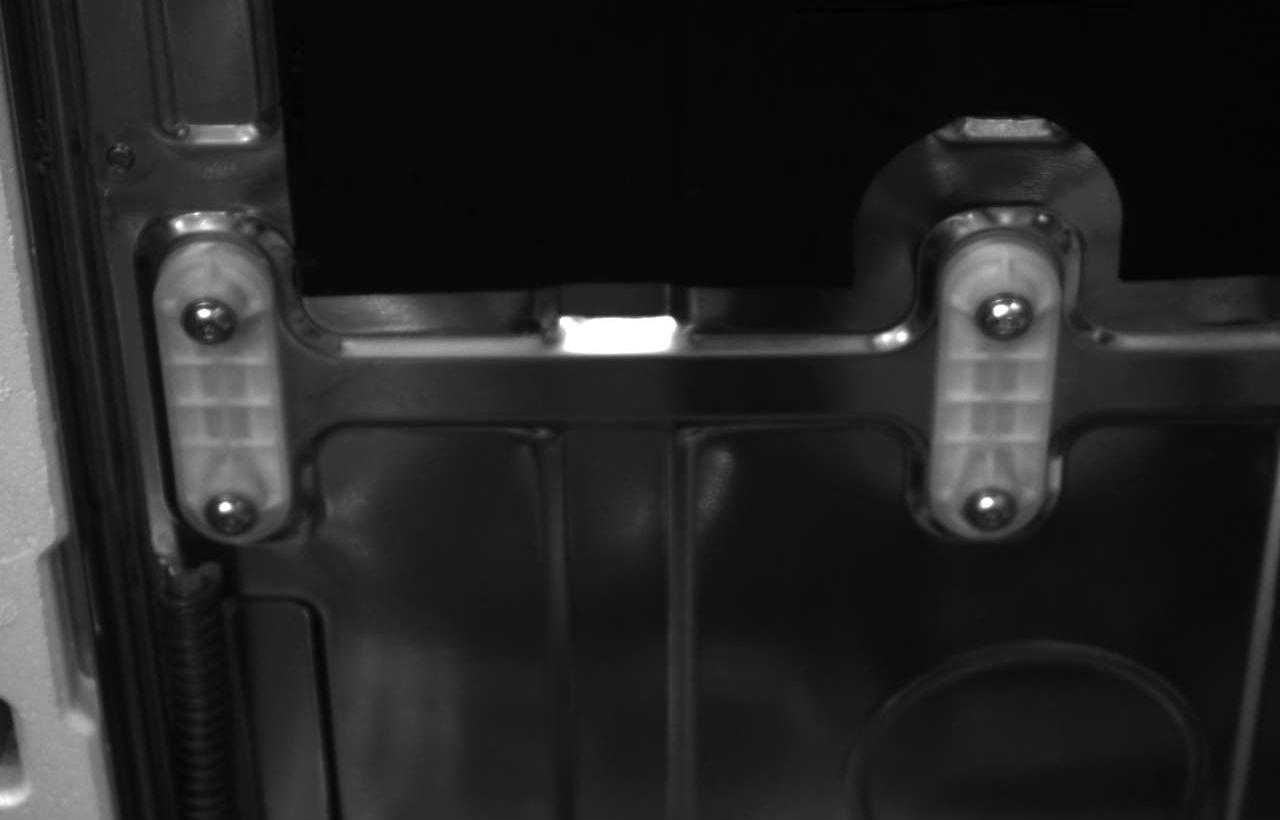vida-ok: (169, 281, 256, 358), (969, 279, 1057, 352), (193, 481, 271, 545), (952, 481, 1027, 540)
